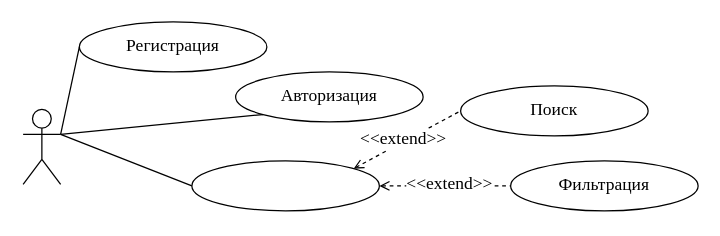
This 720x236 diagram has some shape labels left out. Each missing label, with the centre of its shape:
Гость: the point at 41,146
Просмотр каталога: the point at 285,185
